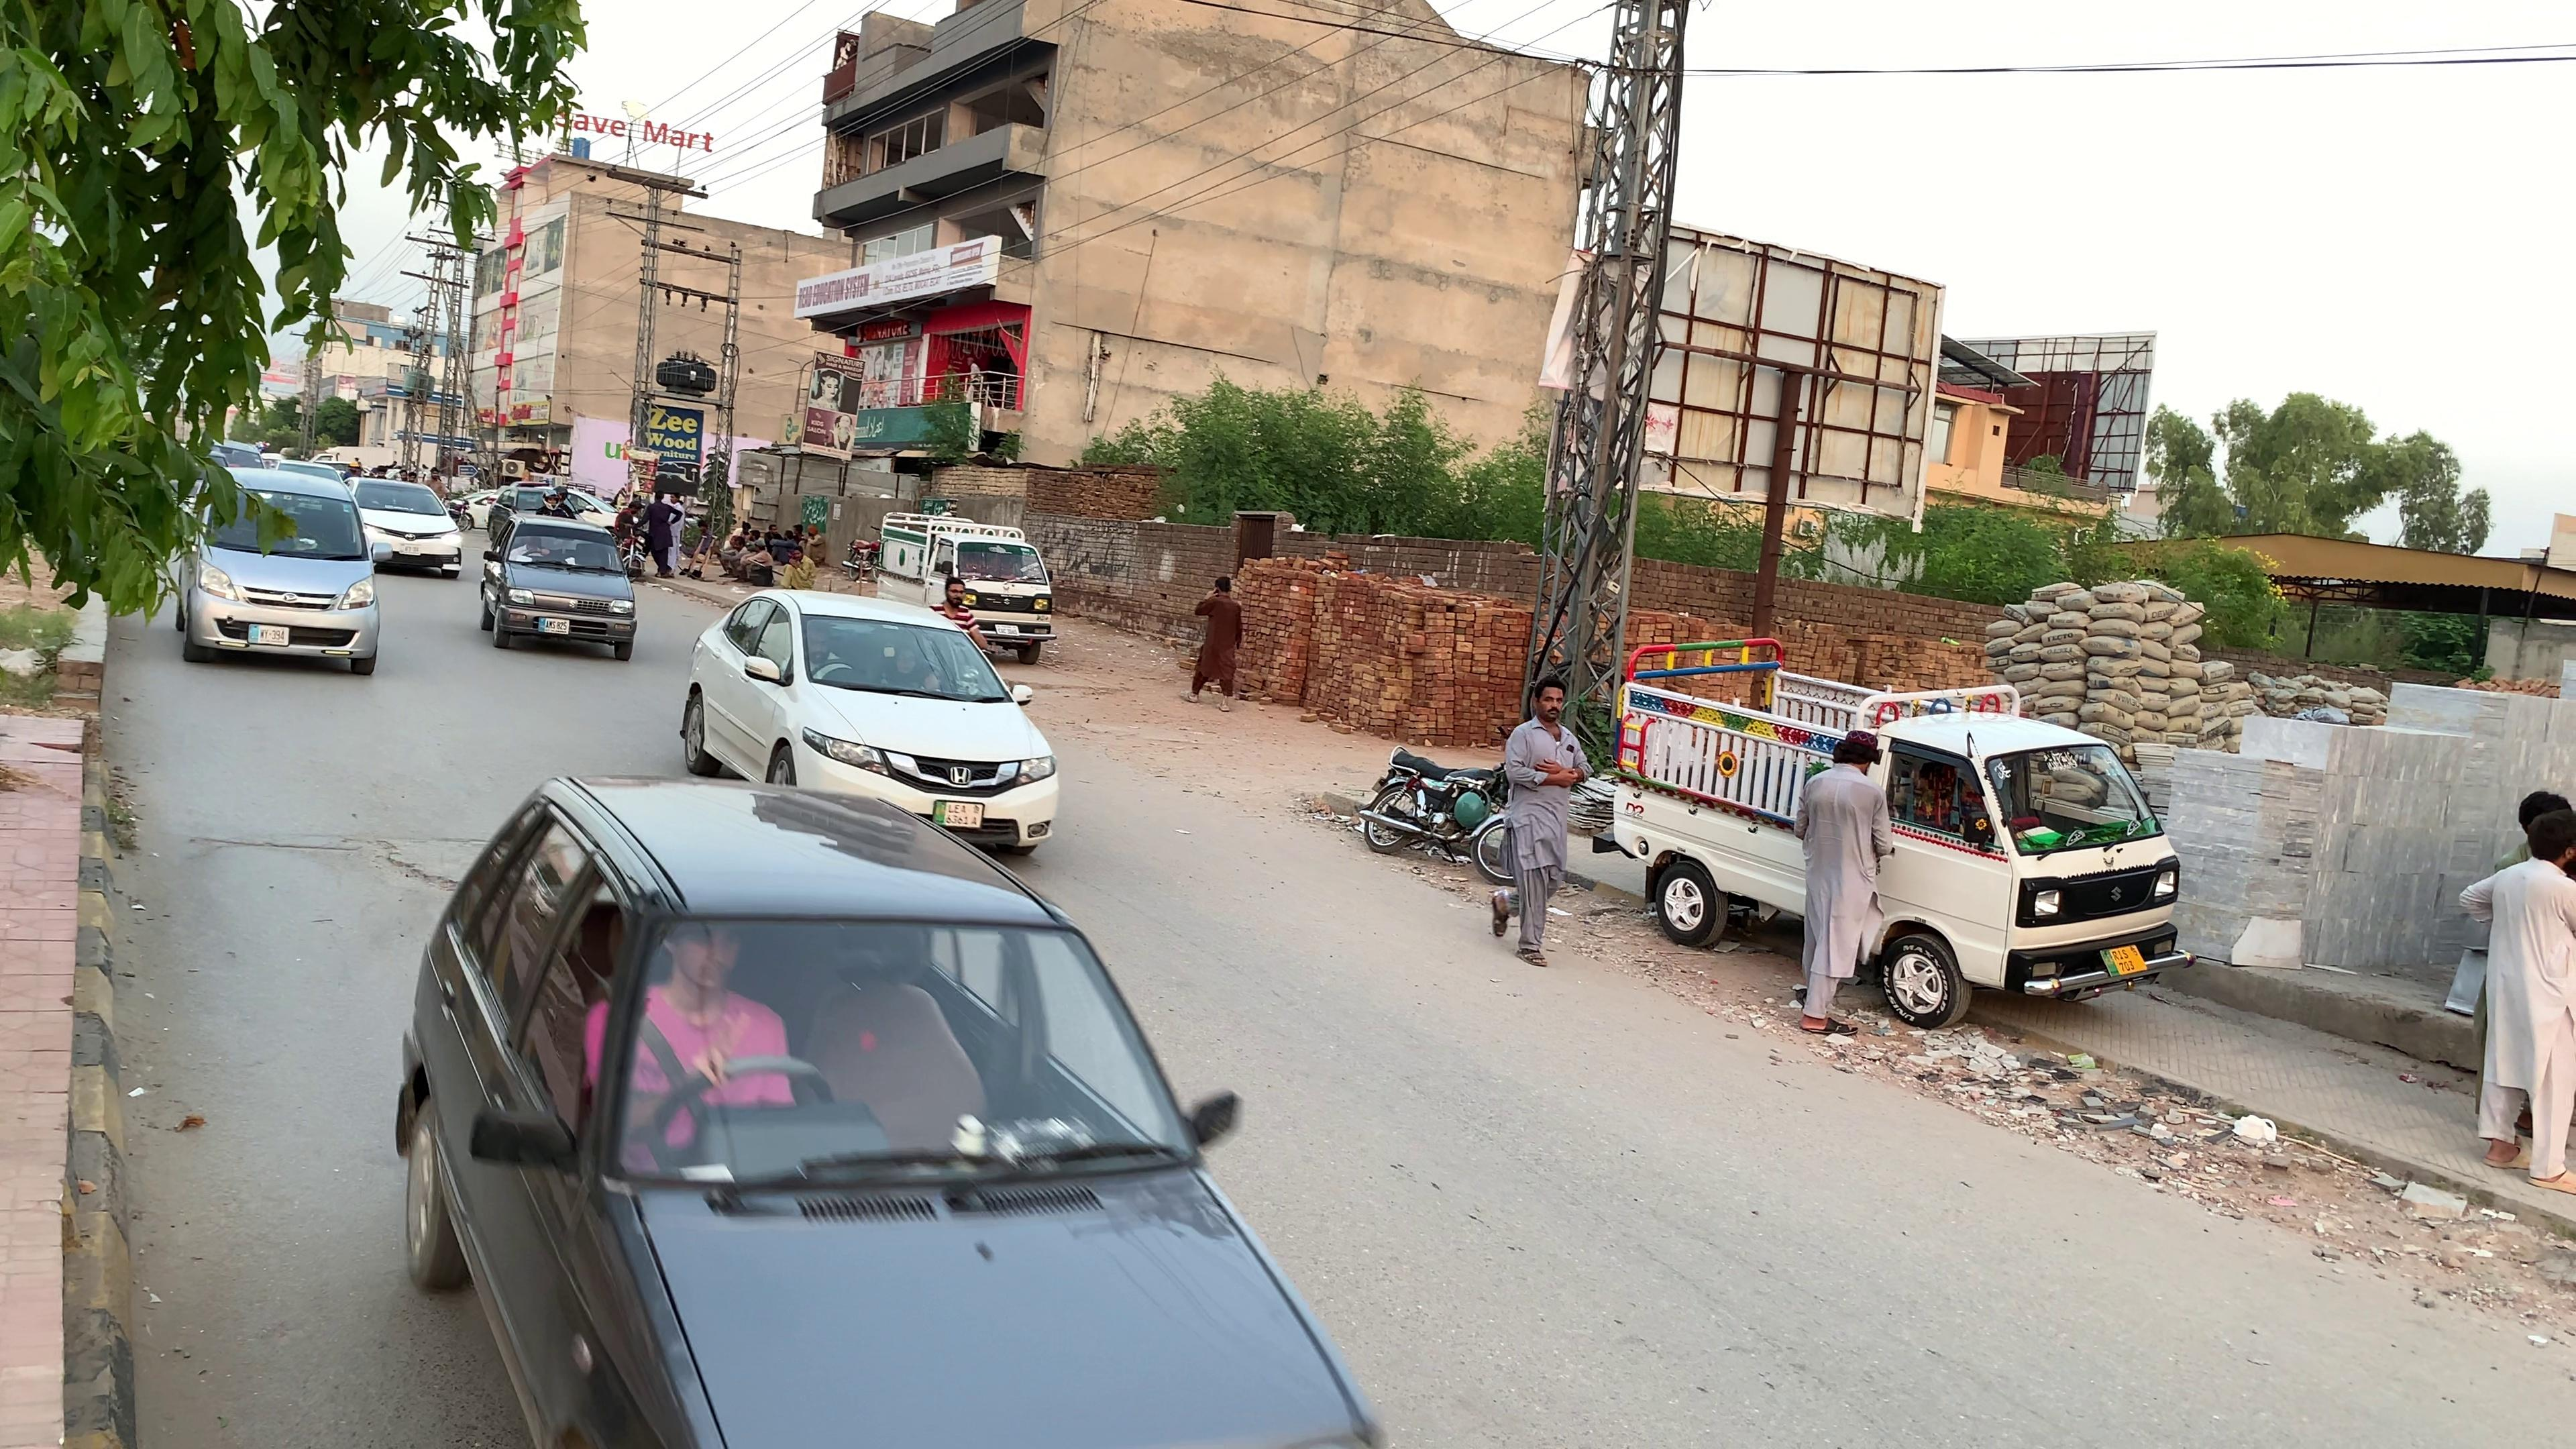windshield: (580, 886, 1198, 1201), (798, 610, 1023, 708)
